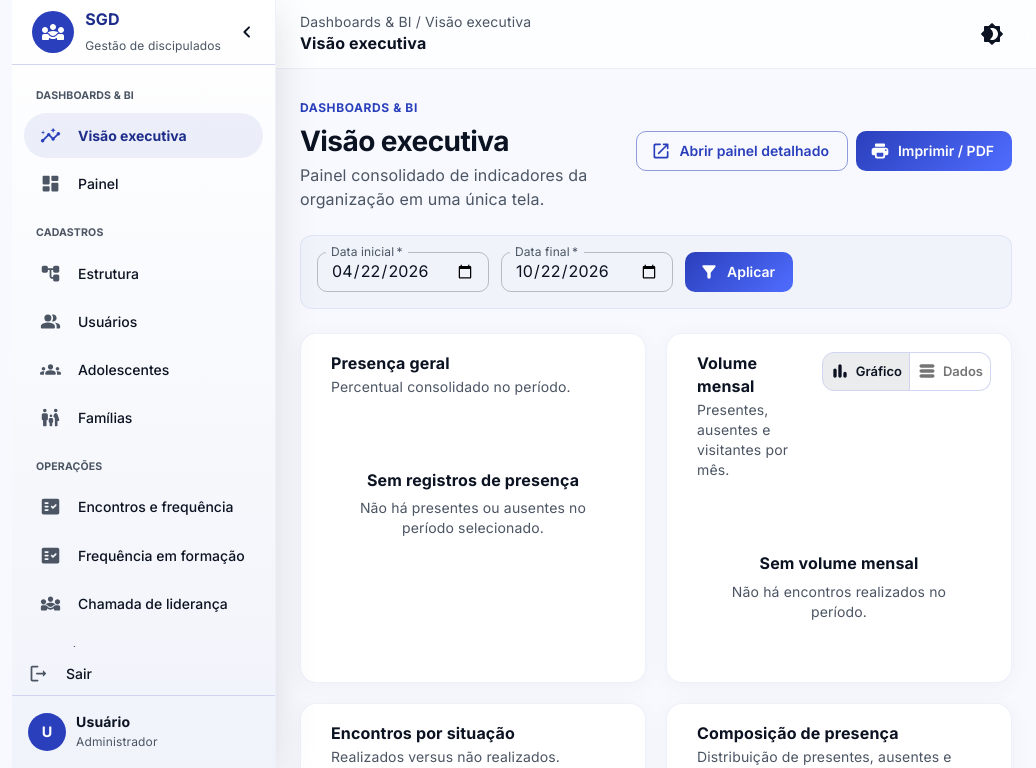
Test: navegação autenticada › lista usuários já cadastrados na área administrativa
The width and height of the screenshot is (1036, 768).
Click the tab "Usuários": (144, 321) x1=24 y1=299 x2=263 y2=344
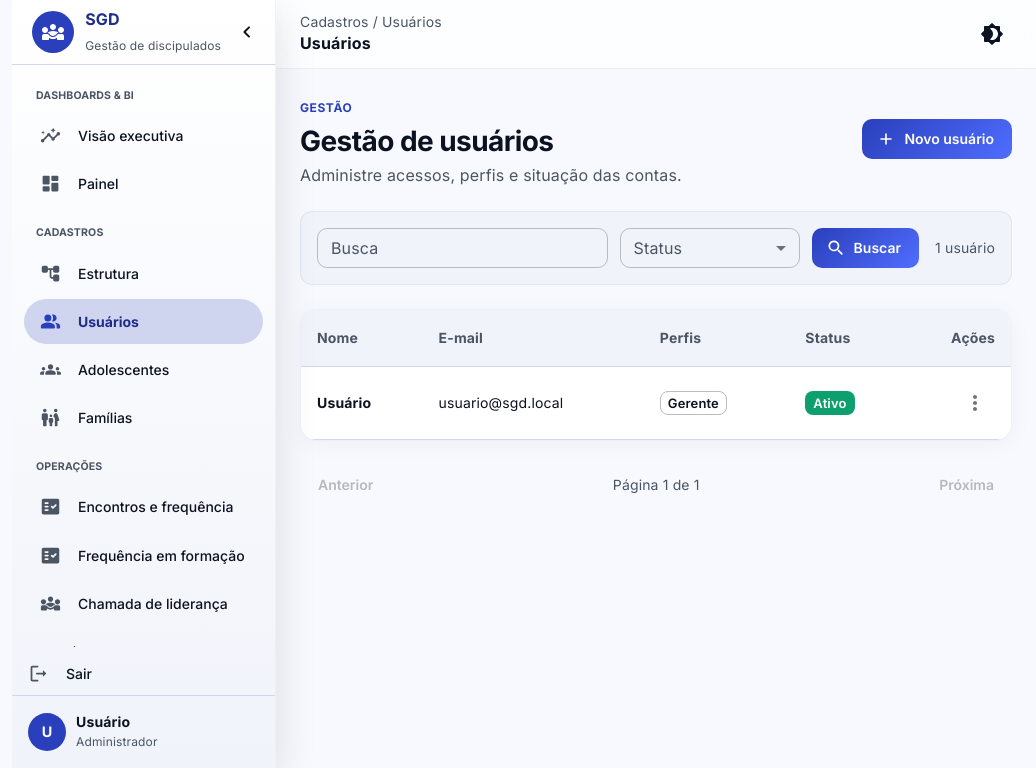
Check: the text "usuario@sgd.local" is shown, box x1=422 y1=366 x2=644 y2=439
